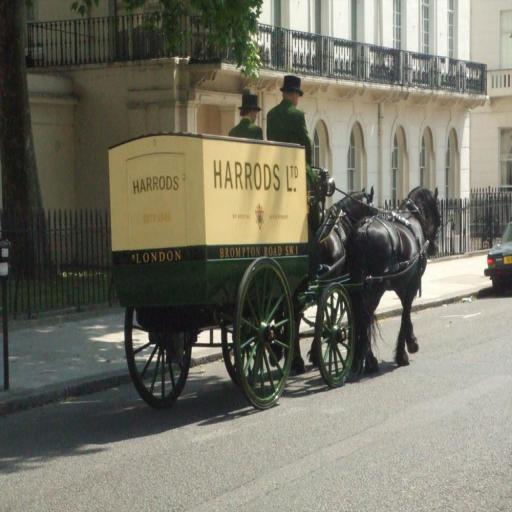horse: (272, 186, 376, 371), (344, 185, 440, 375)
